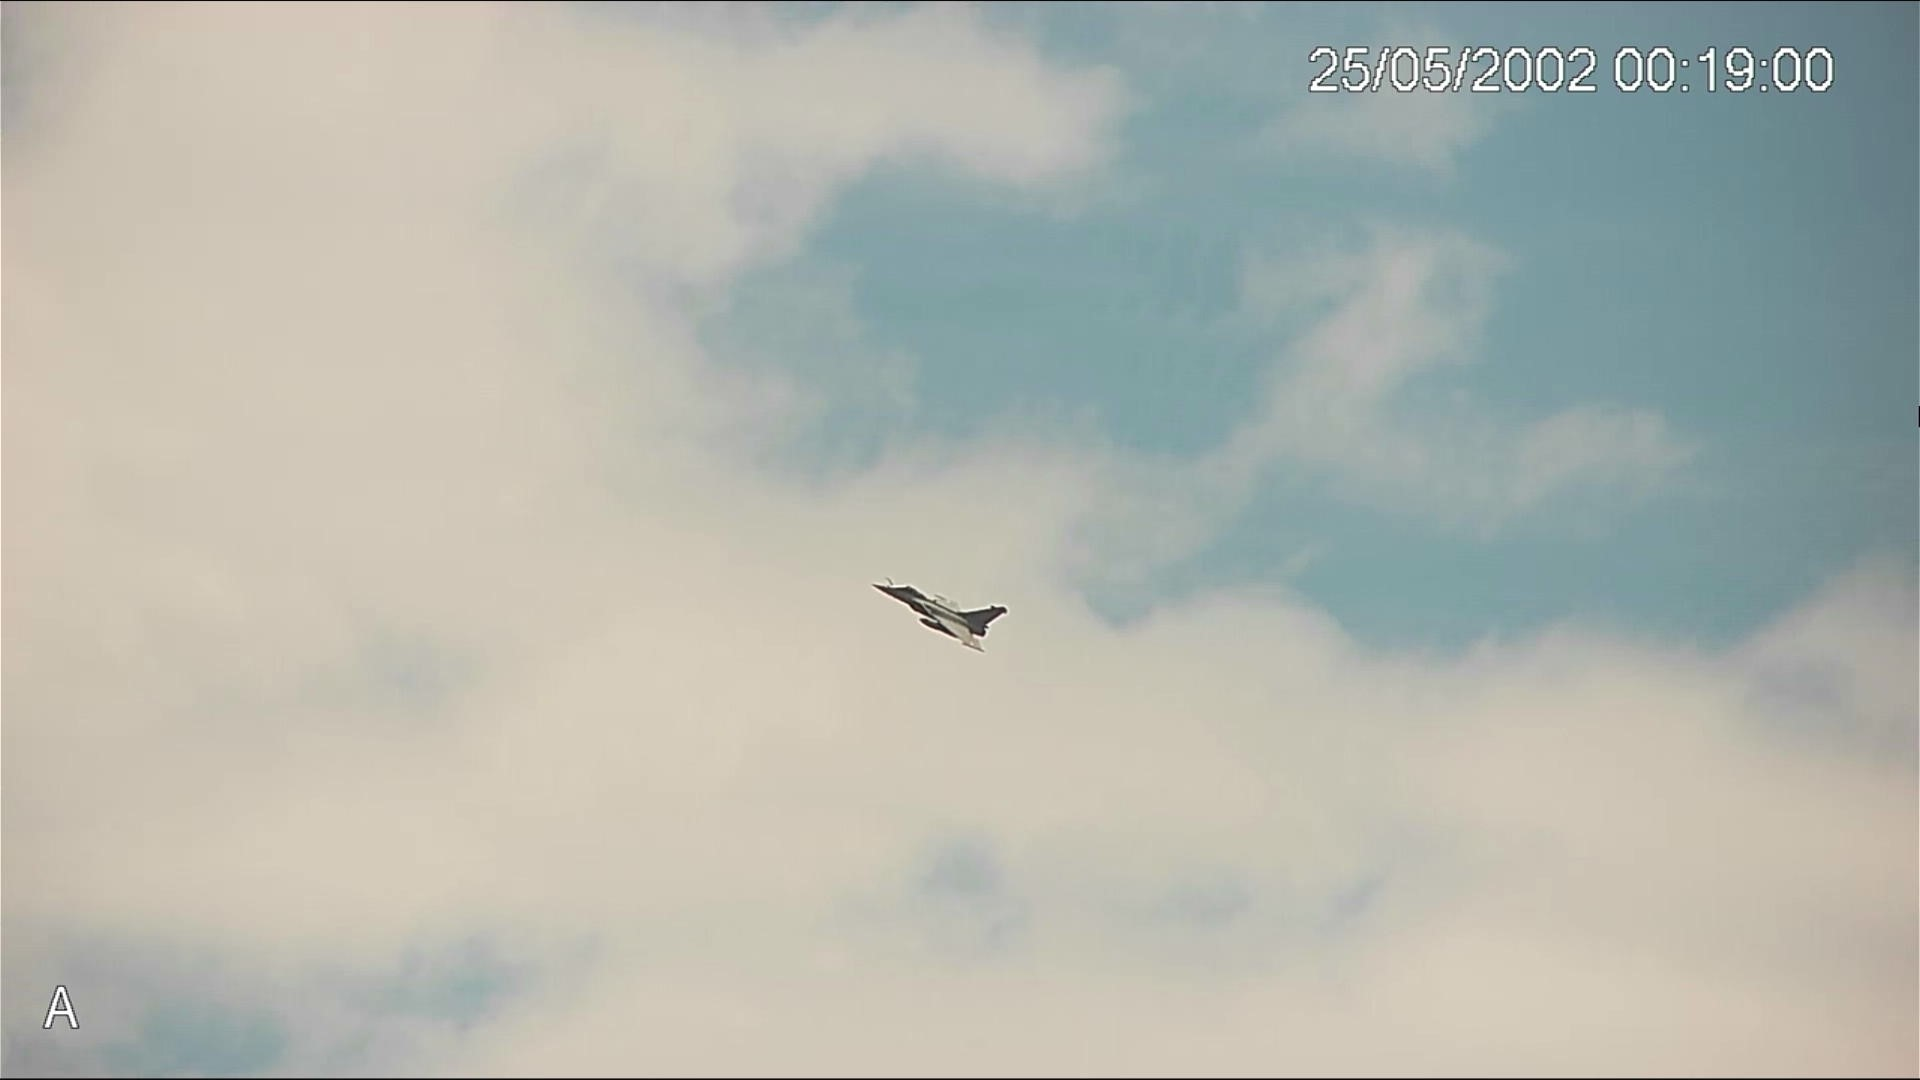SU_30: (868, 568, 1022, 658)
